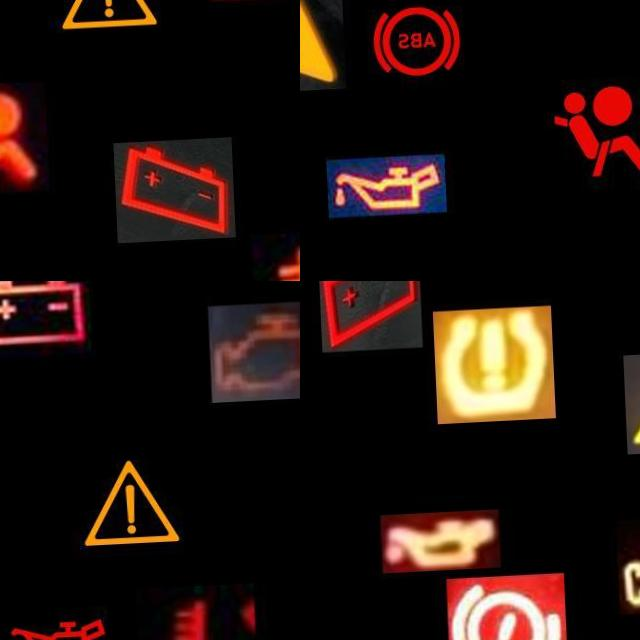Central Warning lamp: (65, 443, 187, 566), (45, 0, 168, 49), (300, 0, 344, 96)
Engine cooling system: (130, 586, 251, 640)
